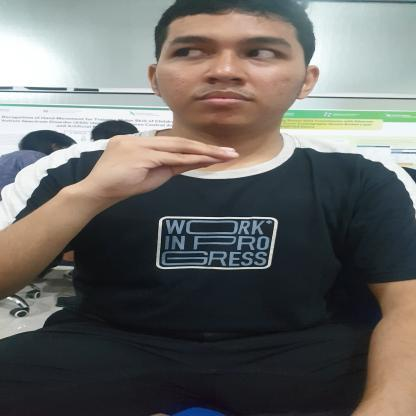Malam: (49, 127, 246, 230)
